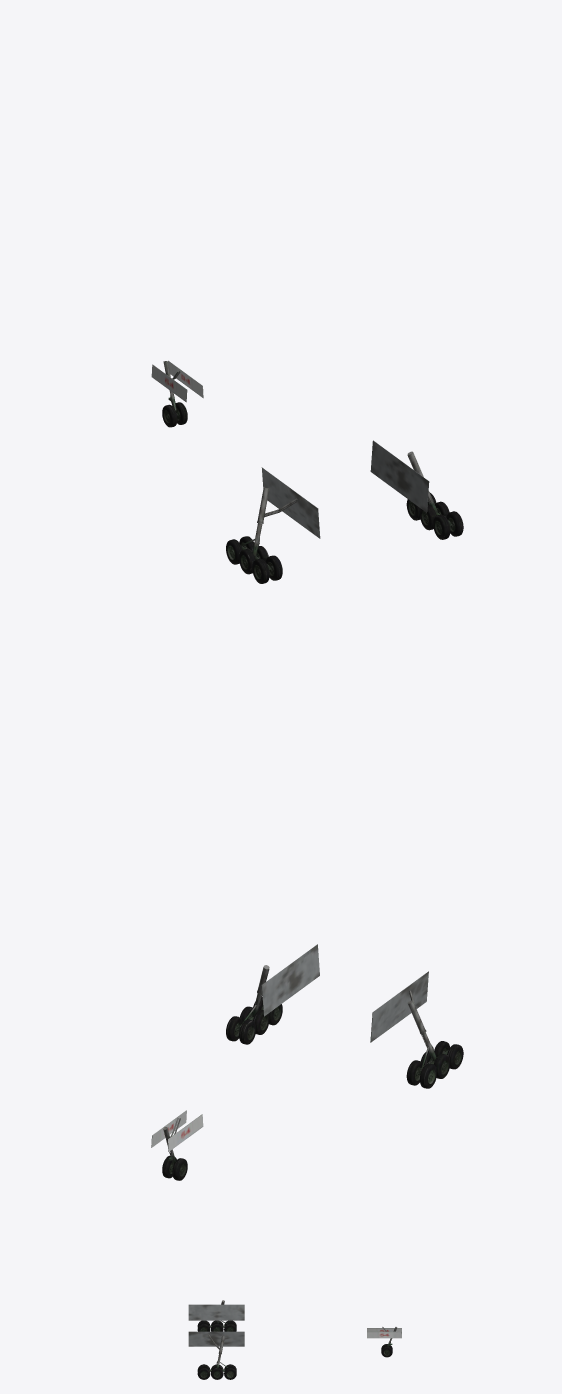
The model's file is e_tu22m3_gear.glb.
The picture shows the model from 3 angles, top to bottom: view 1: azimuth 30°, elevation 25°; view 2: azimuth 150°, elevation 25°; view 3: azimuth 270°, elevation 25°; orthographic projection. The views are drawn at different scales.
Visible parts, largest first — view 1: body|M3_paint; view 2: body|M3_paint; view 3: body|M3_paint.
Boxes of the visible parts, bbox=[...] form: body|M3_paint: bbox=[151, 360, 463, 583]; body|M3_paint: bbox=[151, 944, 463, 1180]; body|M3_paint: bbox=[188, 1300, 401, 1379].
Bounding box in the file's own units: 9.2 × 12.87 × 42.46.
1 material, 1 textured.
